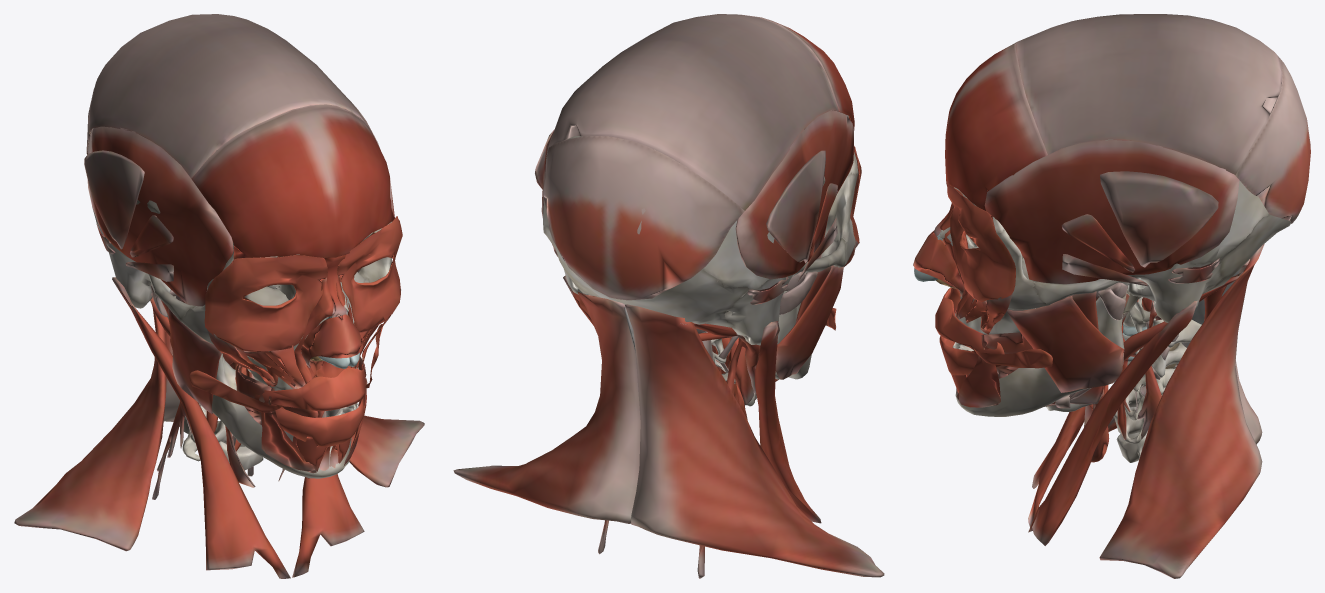
File: head-neck-muscles.glb
The picture shows the model from 3 angles, left to right: view 1: azimuth 30°, elevation 25°; view 2: azimuth 150°, elevation 25°; view 3: azimuth 270°, elevation 25°; orthographic projection. The views are drawn at different scales.
Parts seen in each view (by area): view 1: Epicranial_aponeurosis, Frontalis, Right_descending_part_of_trapezius, Right_temporalis, Right_orbicularis_oculi, Right_sternocleidomastoid, Orbicularis_oris, Left_orbicularis_oculi, Left_sternocleidomastoid, Right_auricularis_superior, Left_descending_part_of_trapezius, Mandible (+20 smaller); view 2: Epicranial_aponeurosis, Right_descending_part_of_trapezius, Occipitalis, Left_descending_part_of_trapezius, Right_temporalis, Occipital_bone, Right_auricularis_superior, Right_sternocleidomastoid, Right_superficial_part_of_masseter, Right_temporal_bone, Right_parietal_bone, Right_zygomatic_bone (+5 smaller); view 3: Epicranial_aponeurosis, Left_descending_part_of_trapezius, Left_temporalis, Frontalis, Left_auricularis_superior, Occipitalis, Left_superficial_part_of_masseter, Left_sternocleidomastoid, Left_orbicularis_oculi, Left_temporal_bone, Mandible, Orbicularis_oris (+21 smaller).
Boxes of the visible parts, box(x1,y1,x2,y2) form: Epicranial_aponeurosis: box(88, 14, 368, 178); Frontalis: box(191, 104, 394, 259); Right_descending_part_of_trapezius: box(14, 310, 179, 551); Right_temporalis: box(87, 126, 233, 306); Right_orbicularis_oculi: box(204, 255, 327, 351); Right_sternocleidomastoid: box(112, 277, 290, 578); Orbicularis_oris: box(254, 364, 365, 446); Left_orbicularis_oculi: box(336, 216, 402, 332); Left_sternocleidomastoid: box(292, 474, 364, 577); Right_auricularis_superior: box(84, 150, 144, 249); Left_descending_part_of_trapezius: box(349, 415, 424, 487); Mandible: box(166, 296, 357, 478); Epicranial_aponeurosis: box(546, 14, 838, 210); Right_descending_part_of_trapezius: box(625, 304, 884, 577); Occipitalis: box(543, 136, 744, 300); Left_descending_part_of_trapezius: box(453, 292, 640, 523); Right_temporalis: box(735, 110, 853, 279); Occipital_bone: box(543, 226, 749, 327); Right_auricularis_superior: box(766, 150, 825, 263); Right_sternocleidomastoid: box(754, 321, 821, 523); Right_superficial_part_of_masseter: box(775, 265, 843, 379); Right_temporal_bone: box(725, 181, 845, 345); Right_parietal_bone: box(702, 176, 825, 288); Right_zygomatic_bone: box(825, 172, 858, 267); Epicranial_aponeurosis: box(1015, 14, 1282, 174); Left_descending_part_of_trapezius: box(1099, 244, 1264, 578); Left_temporalis: box(984, 140, 1239, 284); Frontalis: box(945, 42, 1047, 210); Left_auricularis_superior: box(1100, 171, 1218, 267); Occipitalis: box(1234, 58, 1310, 223); Left_superficial_part_of_masseter: box(1006, 296, 1124, 392); Left_sternocleidomastoid: box(1028, 300, 1197, 545); Left_orbicularis_oculi: box(947, 183, 1015, 302); Left_temporal_bone: box(1033, 259, 1223, 322); Mandible: box(952, 289, 1127, 416); Orbicularis_oris: box(935, 287, 1004, 375).
Size of the model in its own units: 0.2627 by 0.3086 by 0.2206.
202 materials, 202 textured.
